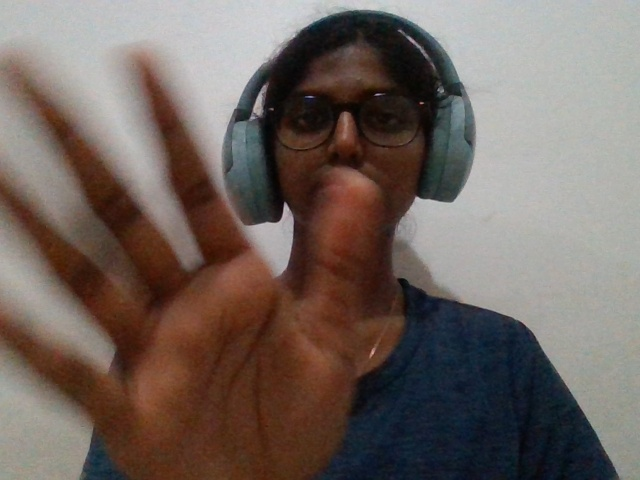Bye: (2, 35, 363, 480)
